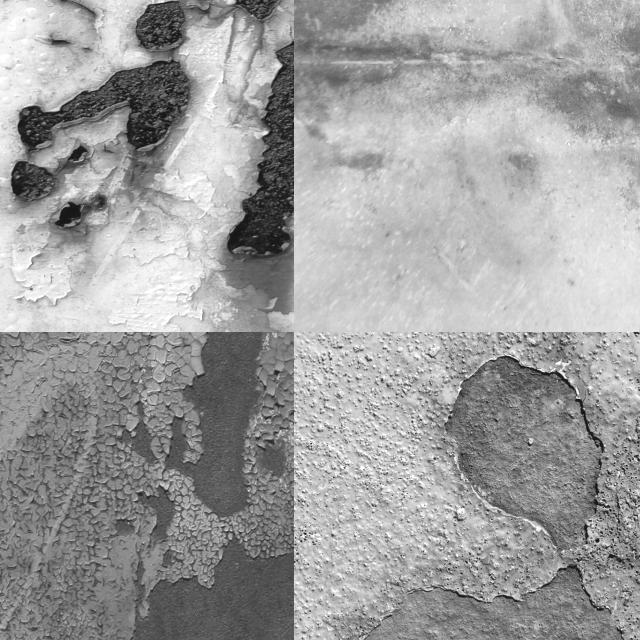Uniform Corrosion: (294, 0, 640, 134), (445, 356, 603, 550), (168, 332, 268, 515), (167, 332, 267, 515), (18, 60, 190, 150), (228, 40, 294, 255), (137, 581, 202, 640), (135, 1, 184, 50), (11, 161, 55, 201), (128, 404, 155, 462), (141, 494, 173, 539), (171, 421, 186, 458), (159, 514, 165, 534)
